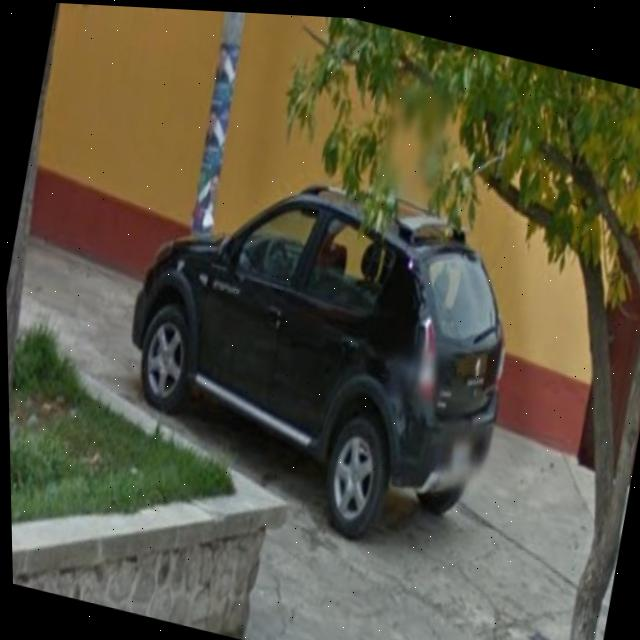vehicle: (101, 128, 526, 545)
